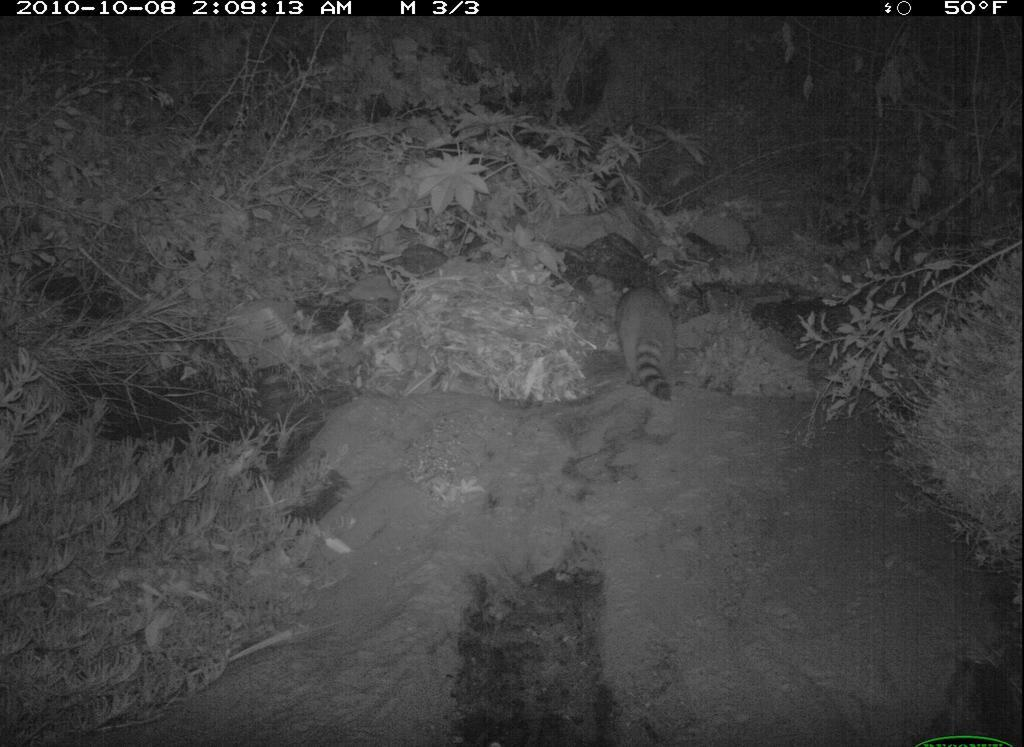raccoon: (608, 273, 685, 404)
